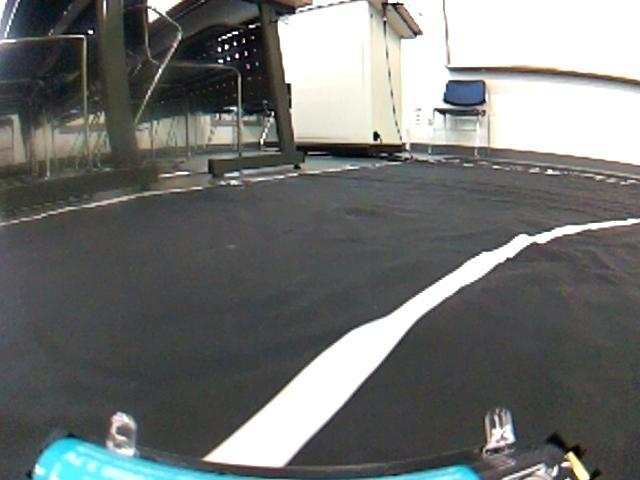right: (3, 226, 640, 476)
